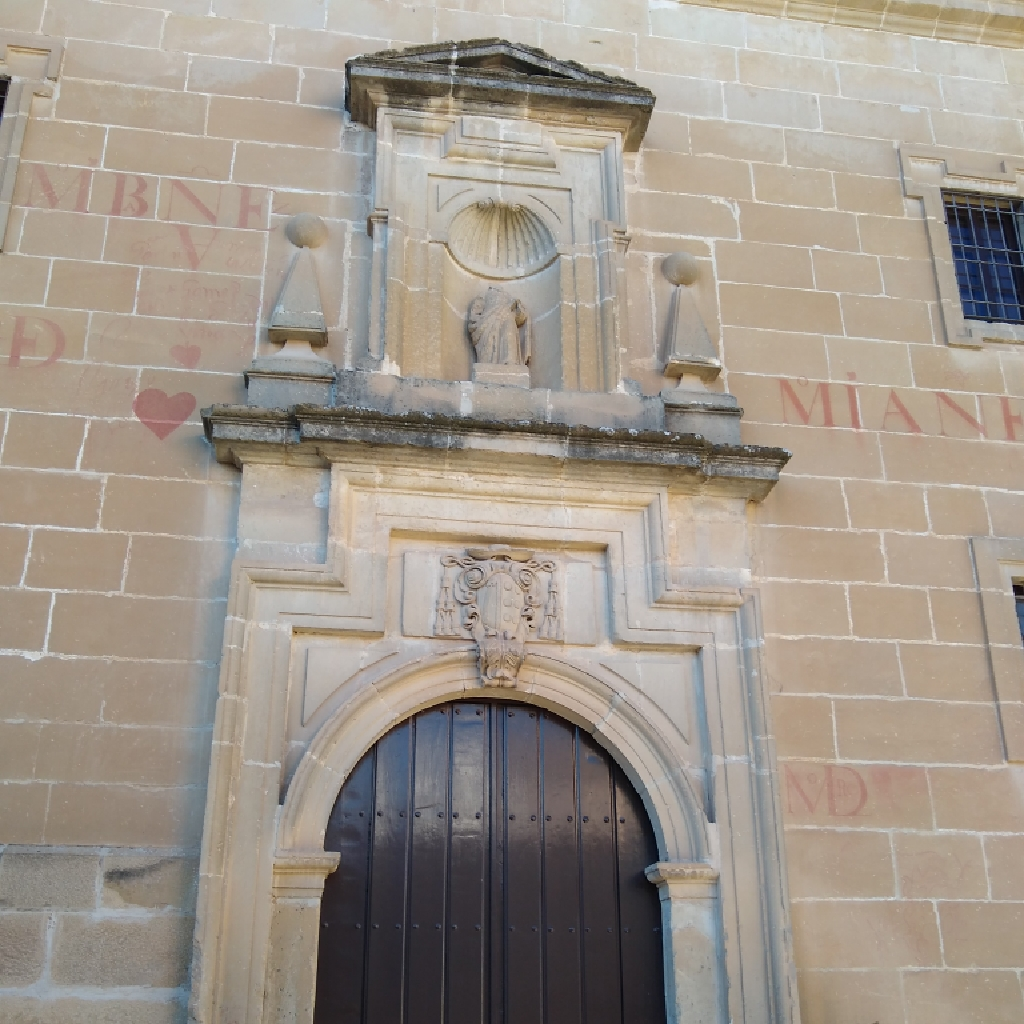arco-medio-punto: (293, 671, 689, 903)
fronton: (346, 37, 645, 110)
